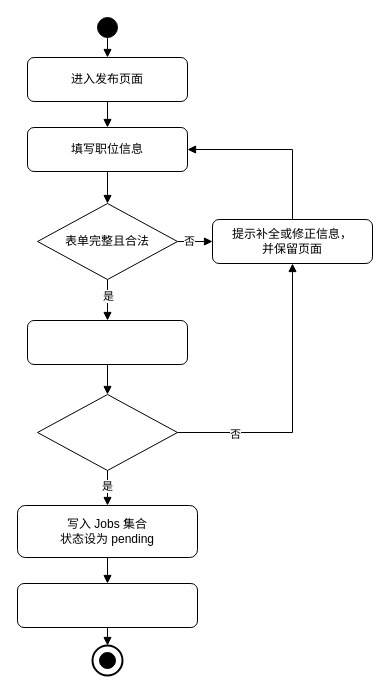
Image size: 390x694. Some labels were removed from this diagram. Here are the shapes that lost their labels. From the top down, the centre of each, then its label:
At (x=107, y=342): "调用 postJob 云函数".
At (x=107, y=432): "服务端校验通过".
At (x=107, y=605): "提示“提交成功，等待审核”".
